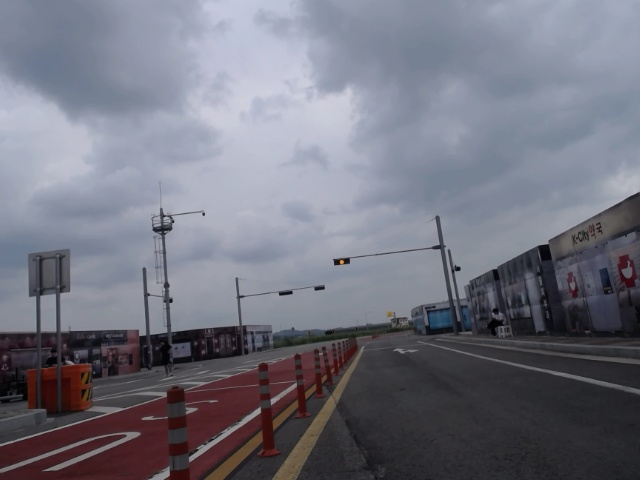orange_3: (333, 258, 350, 265)
